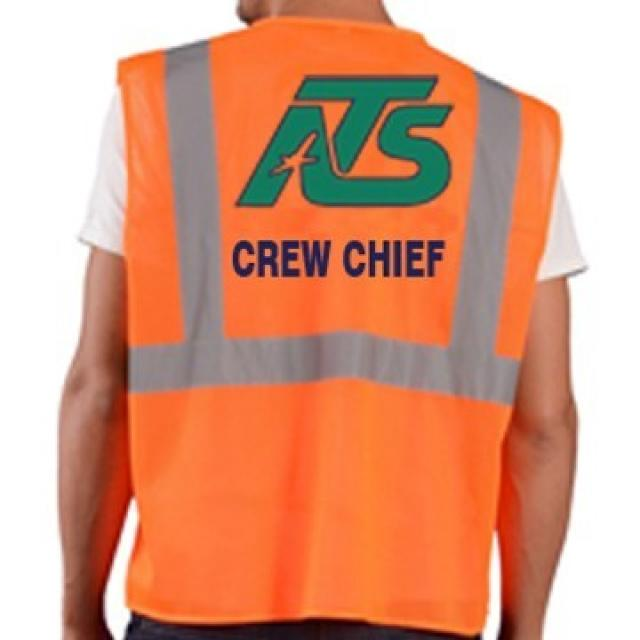Reflective-Jacket: (92, 5, 578, 640)
